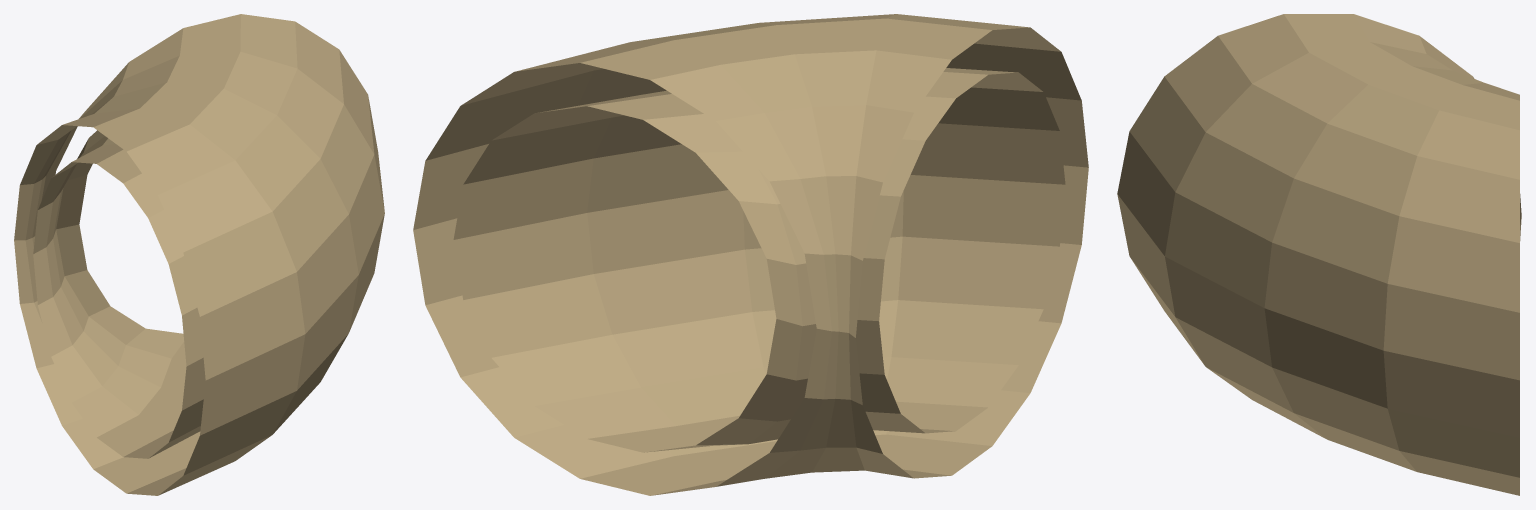
File: Pipe_Small_Corner_Left_Sewer_Environment.FBX
3 views of the same model, side by side, from view 1: azimuth 30°, elevation 25°; view 2: azimuth 150°, elevation 25°; view 3: azimuth 270°, elevation 25° (orthographic). The views are drawn at different scales.
Parts seen in each view (by area): view 1: Rohrbiegung_Links_klein; view 2: Rohrbiegung_Links_klein; view 3: Rohrbiegung_Links_klein.
Part boxes in pixels (x1,y1,x2,y2): Rohrbiegung_Links_klein: [14, 14, 384, 495]; Rohrbiegung_Links_klein: [413, 14, 1088, 495]; Rohrbiegung_Links_klein: [1117, 14, 1521, 495].
Size of the model in its own units: 110 by 98.48 by 100.
